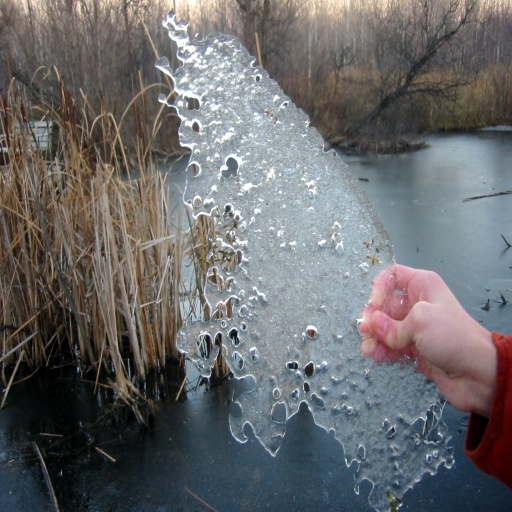hand: (346, 254, 510, 430)
